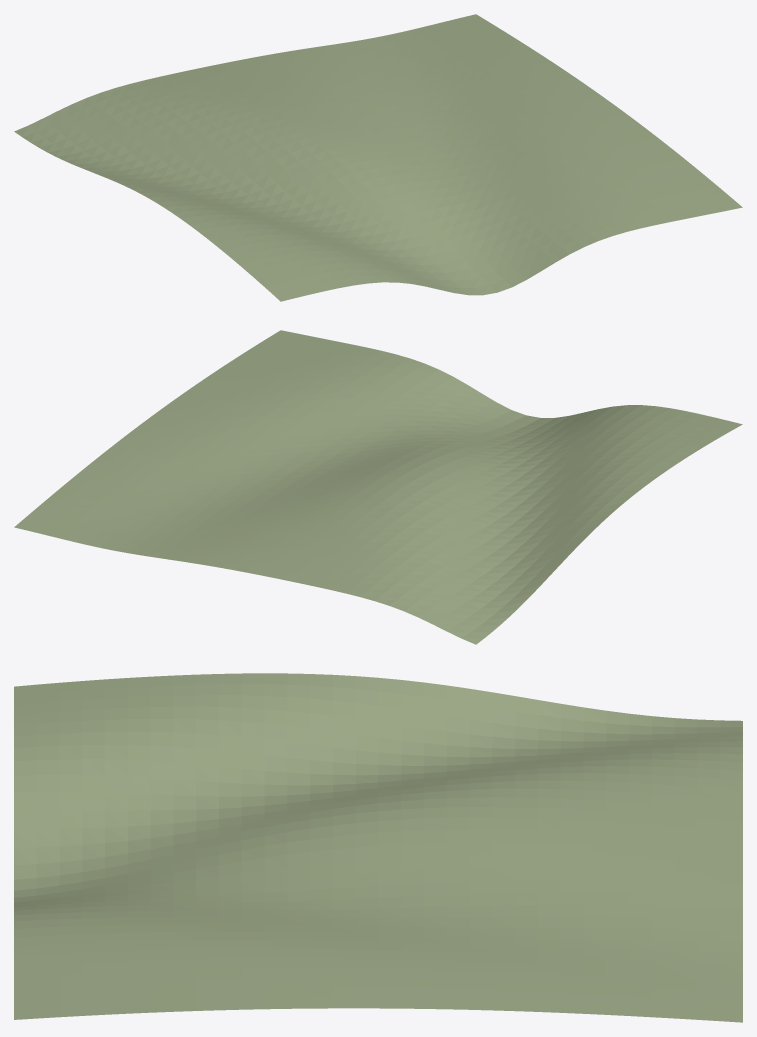
The model's file is lunar-3-4.glb.
3 views of the same model, one above another, from view 1: azimuth 30°, elevation 25°; view 2: azimuth 150°, elevation 25°; view 3: azimuth 270°, elevation 25° (orthographic). The views are drawn at different scales.
Visible parts, largest first — view 1: lunar-3-4; view 2: lunar-3-4; view 3: lunar-3-4.
Part boxes in pixels (box(x1,y1,x2,y2)): lunar-3-4: box(14, 14, 742, 301); lunar-3-4: box(14, 330, 742, 644); lunar-3-4: box(14, 673, 742, 1022).
Size of the model in its own units: 128 by 14.16 by 128.
